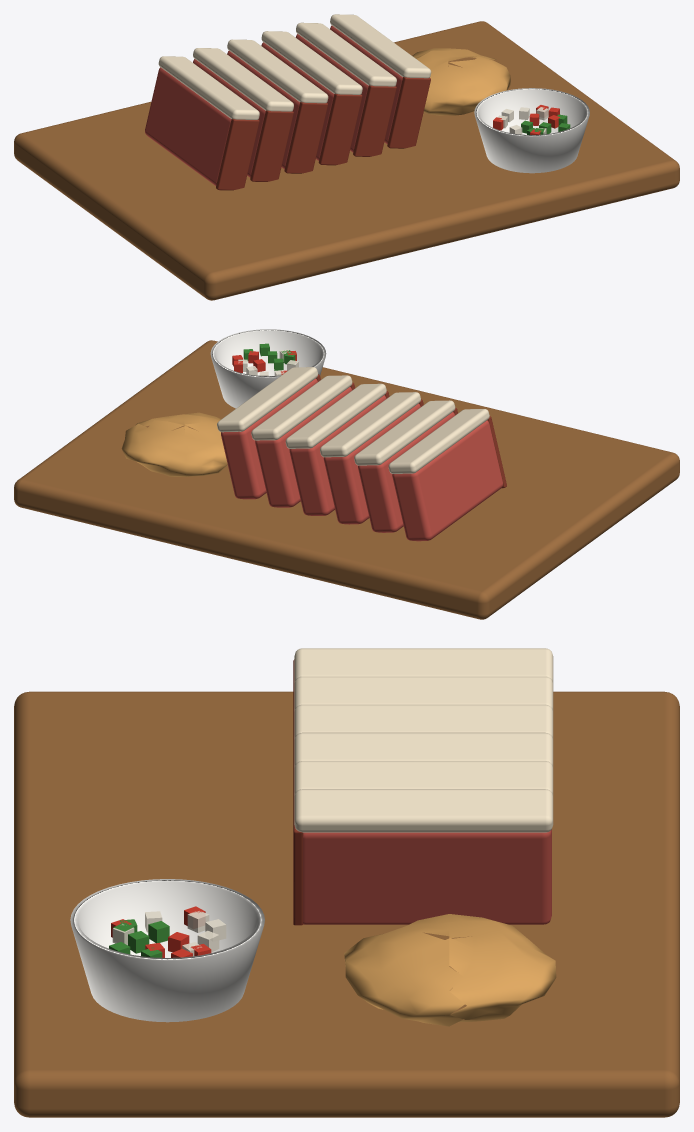
The model's file is picanha.glb.
3 renders of one model, top to bottom at view 1: azimuth 30°, elevation 25°; view 2: azimuth 150°, elevation 25°; view 3: azimuth 270°, elevation 25°, orthographic. The views are drawn at different scales.
Parts seen in each view (by area): view 1: picanha; view 2: picanha; view 3: picanha.
Boxes of the visible parts, <box> form: picanha: <box>14,14,679,300</box>; picanha: <box>14,329,679,619</box>; picanha: <box>14,648,679,1117</box>.
Bounding box in the file's own units: 0.36 × 0.0761 × 0.26.
